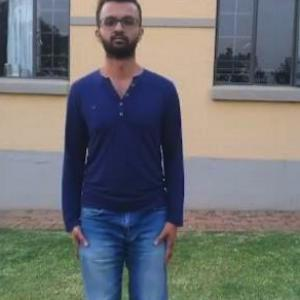follow: (62, 1, 185, 299)
